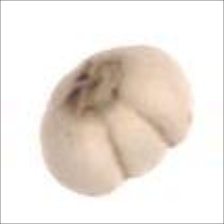L5: (104, 97, 173, 181), (50, 54, 127, 120)
L6: (39, 44, 196, 197)
